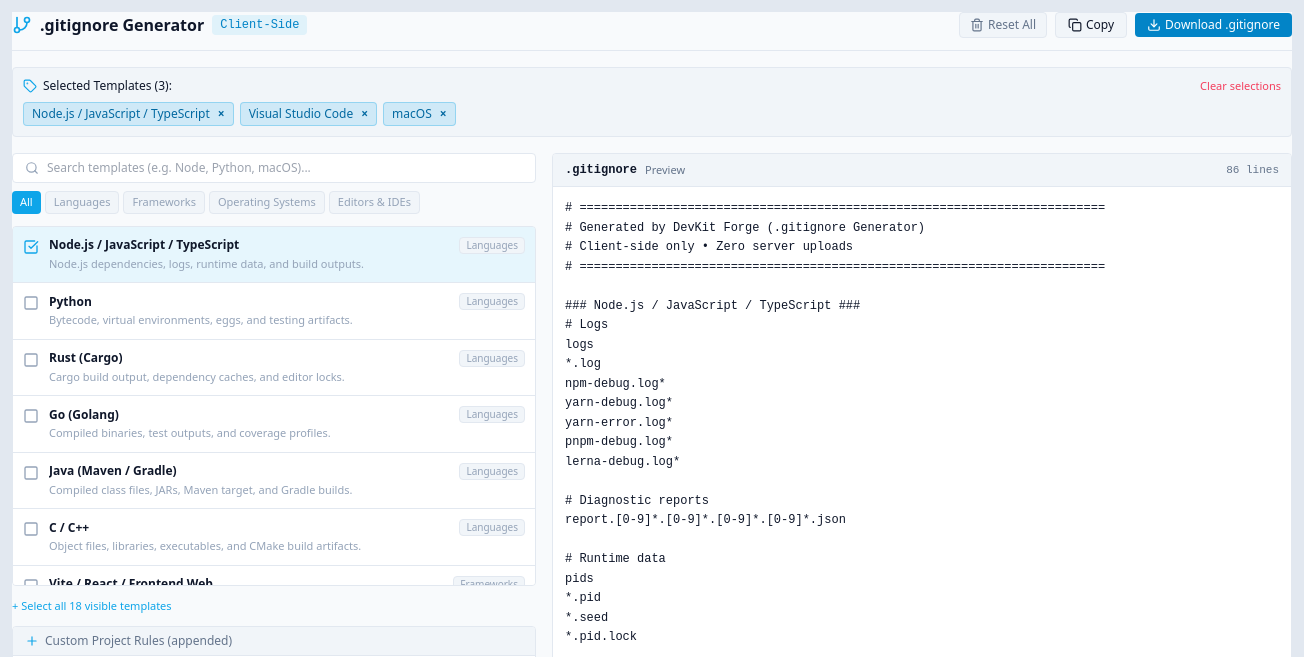
GitignoreGenerator Component › matches template content patterns like *.log or .env when searching
Type "*.log" into the field named "filter templates". click: (285, 168)
box: [47,160,523,176]
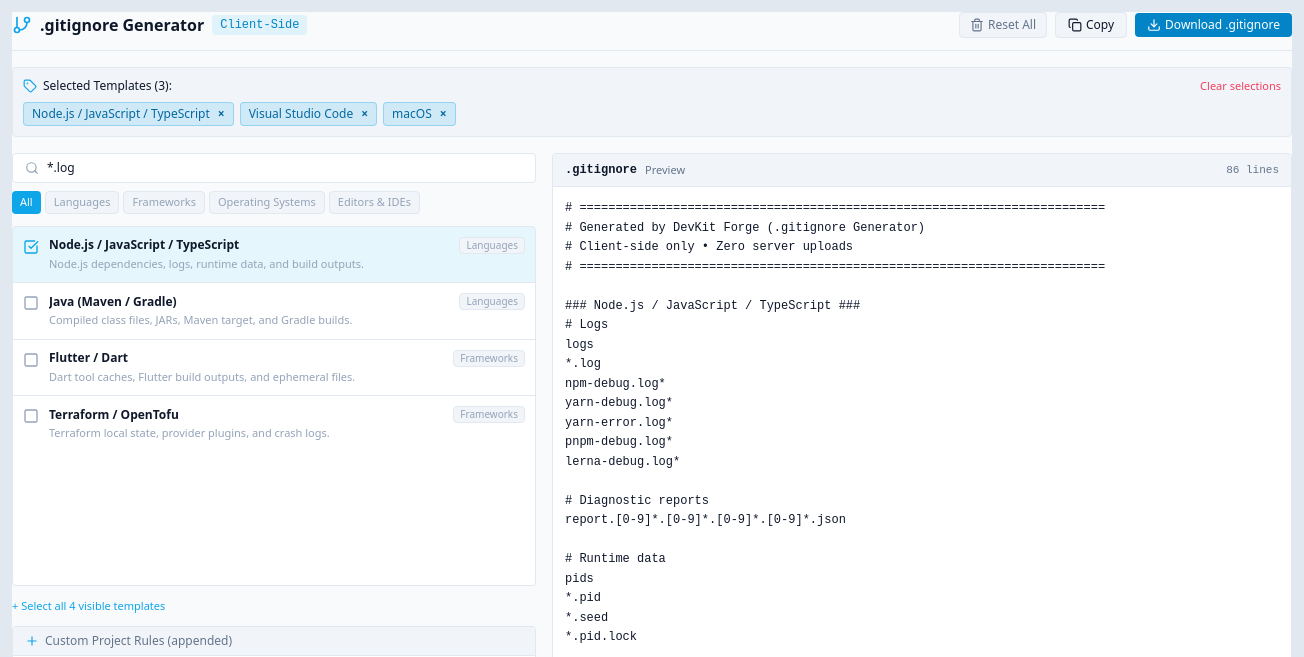
Expected: the text "Rust (Cargo)" is gone
